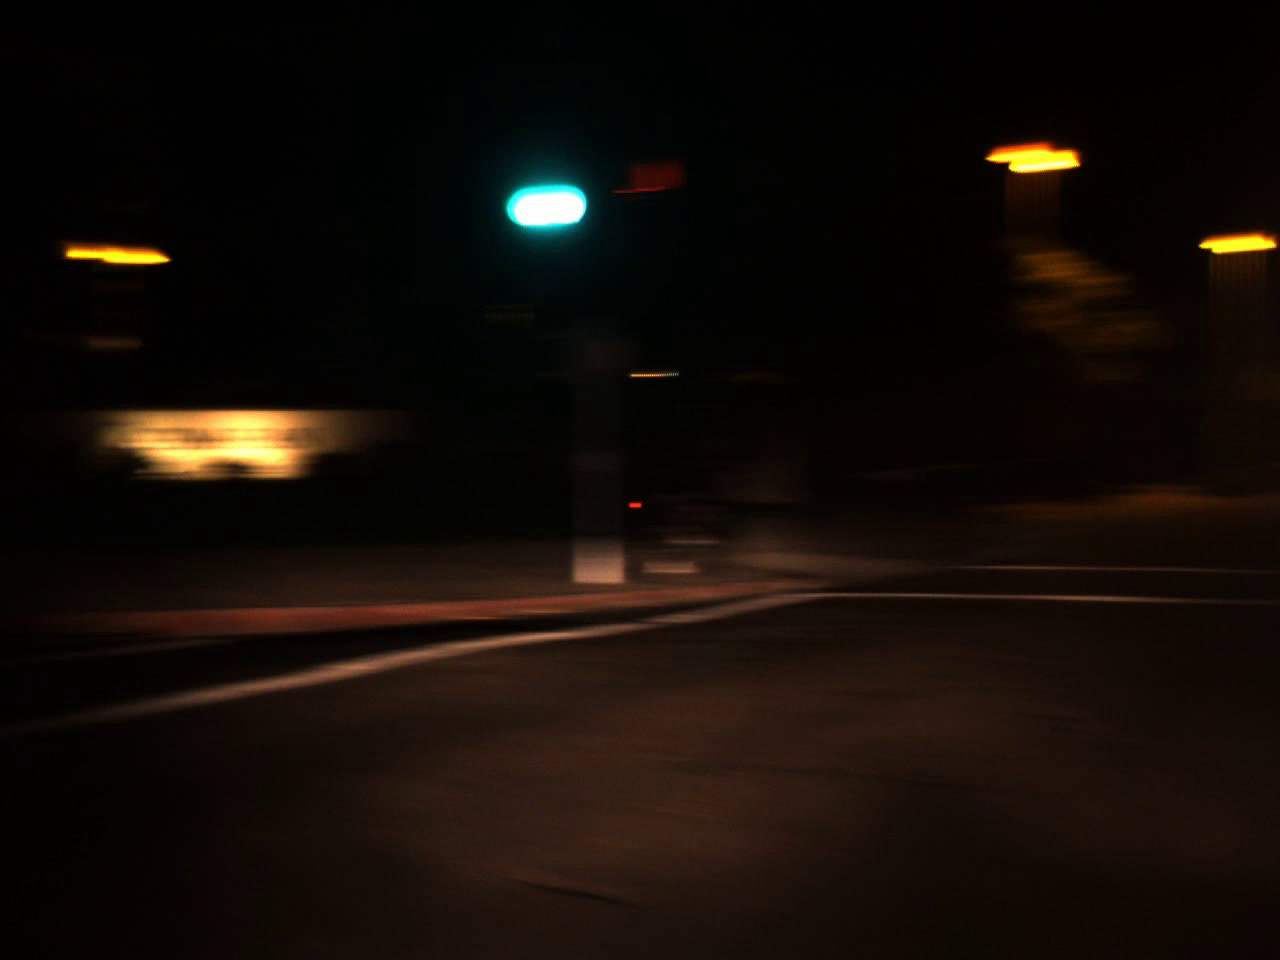go: (493, 140, 599, 245)
